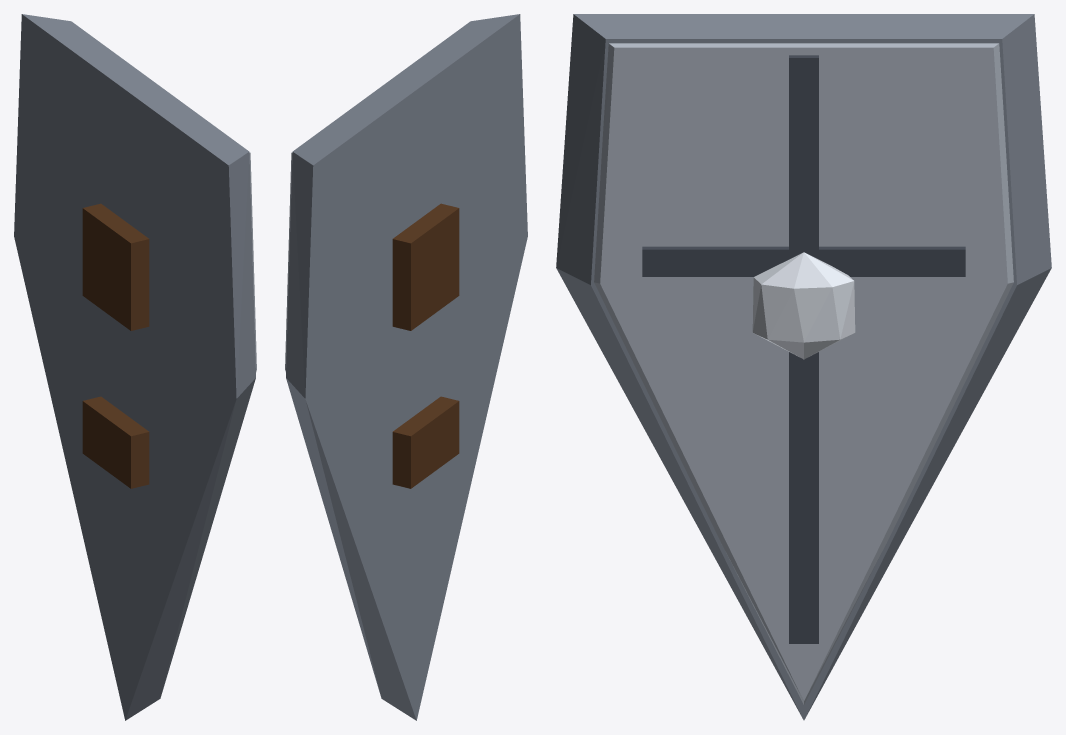
The model's file is held_steel_shield.glb.
3 views of the same model, side by side, from view 1: azimuth 30°, elevation 25°; view 2: azimuth 150°, elevation 25°; view 3: azimuth 270°, elevation 25° (orthographic). The views are drawn at different scales.
Parts seen in each view (by area): view 1: held_steel_shield; view 2: held_steel_shield; view 3: held_steel_shield.
Boxes of the visible parts, left/top/right/bottom form: held_steel_shield: left=14, top=14, right=256, bottom=720; held_steel_shield: left=285, top=14, right=527, bottom=720; held_steel_shield: left=556, top=14, right=1051, bottom=720.
Size of the model in its own units: 0.1057 by 0.72 by 0.4601.
